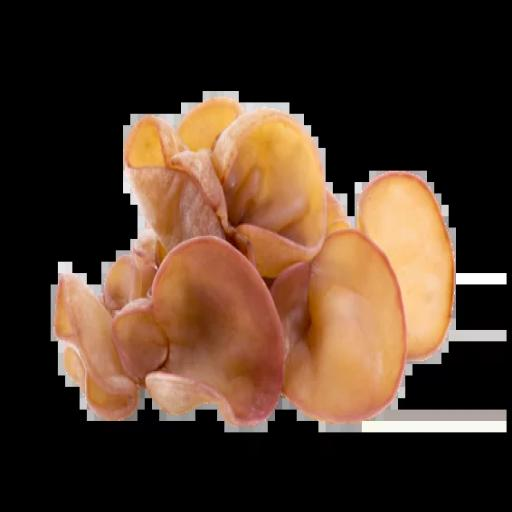Wood Ear Mushroom: (39, 84, 462, 442)
